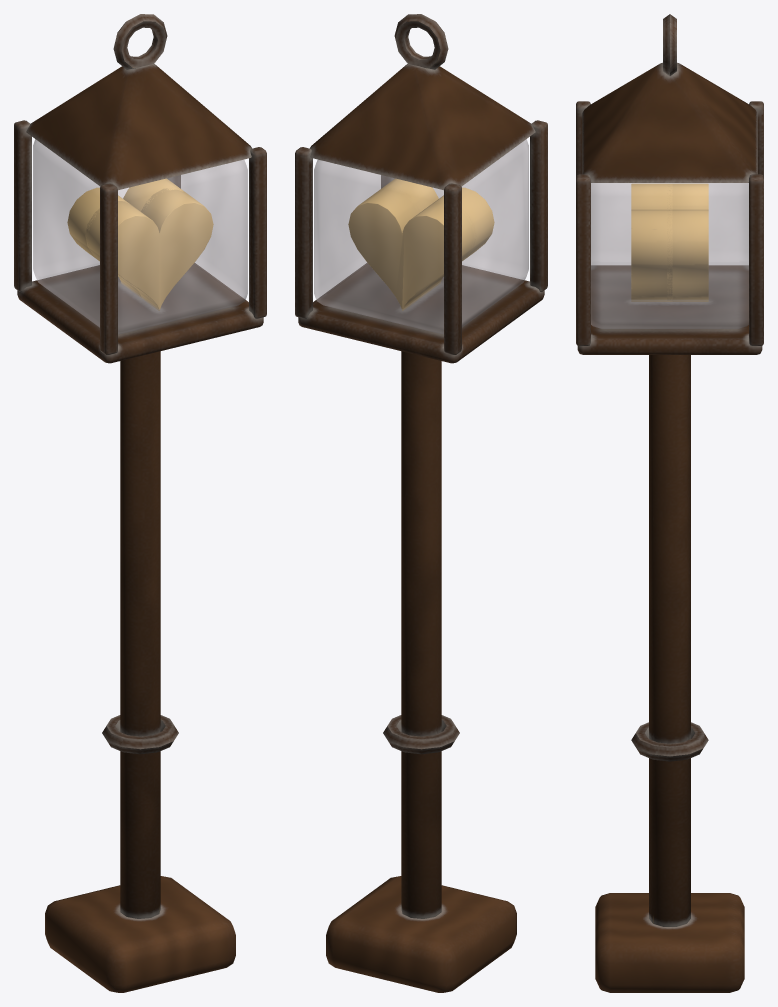
File: rr_lantern_post.fbx
3 views of the same model, side by side, from view 1: azimuth 30°, elevation 25°; view 2: azimuth 150°, elevation 25°; view 3: azimuth 270°, elevation 25° (orthographic).
Parts seen in each view (by area): view 1: rr_lantern_post; view 2: rr_lantern_post; view 3: rr_lantern_post.
Boxes of the visible parts, box(x1,y1,x2,y2) form: rr_lantern_post: box(14, 14, 266, 992); rr_lantern_post: box(295, 14, 547, 992); rr_lantern_post: box(576, 14, 763, 992).
Bounding box in the file's own units: 0.63 × 3.52 × 0.63.
Materials: 4 (4 with a texture image).
